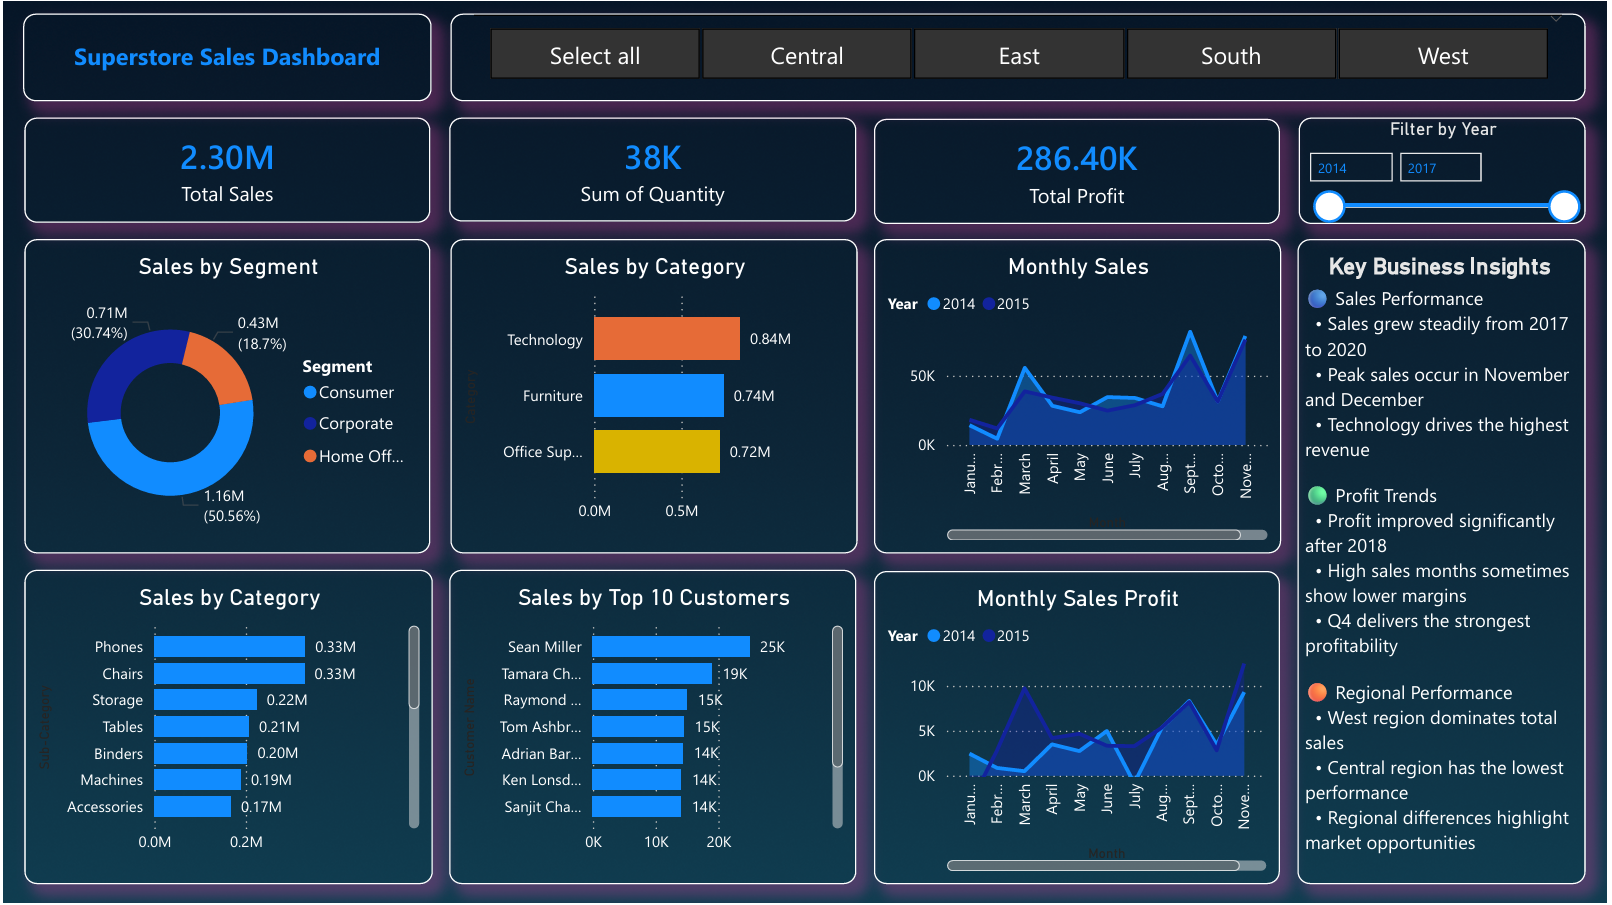

Layout of this report page (visuals, bound fields, positions):
{"tool":"powerbi","page":{"name":"Page 1","canvas":[1280,720],"ordinal":0},"visuals":[{"type":"cardVisual","title":"Total Sales","fields":{"Data":["Sample - Superstore.Total Sales"]},"box":[17.1,92.9,324.3,84.3],"z":0},{"type":"cardVisual","title":"Sum of Profit","fields":{"Data":["Sample - Superstore.Total Profit"]},"box":[694.5,93.6,324,84.5],"z":1000},{"type":"donutChart","title":"Sales by Segment","fields":{"Category":["Sample - Superstore.Segment"],"Y":["Sum(Sample - Superstore.Sales)"]},"box":[17.1,190,324.3,251.4],"z":2000},{"type":"textbox","box":[16,10,326,70],"z":3000},{"type":"cardVisual","title":"Total Quanity","fields":{"Data":["Sum(Sample - Superstore.Quantity)"]},"box":[356.4,92.7,324.5,83.6],"z":4000},{"type":"slicer","title":"Filter by Region","fields":{"Values":["Sample - Superstore.Region"]},"box":[356.7,10,906.7,70],"z":5000},{"type":"clusteredBarChart","title":"Sales by Category","fields":{"Category":["Sample - Superstore.Category"],"Y":["Sum(Sample - Superstore.Sales)"]},"box":[356.7,189.9,325,251],"z":6000},{"type":"areaChart","title":"Monthly Sales","fields":{"Y":["Sum(Sample - Superstore.Sales)"],"Category":["Sample - Superstore.Order Date.Variation.Date Hierarchy.Month"],"Series":["Sample - Superstore.Order Date.Variation.Date Hierarchy.Year"]},"box":[695,189.9,325,251],"z":7000},{"type":"clusteredBarChart","title":"Sales by Category","fields":{"Category":["Sample - Superstore.Sub-Category"],"Y":["Sum(Sample - Superstore.Sales)"]},"box":[17.3,453.6,325.5,251.8],"z":8000},{"type":"clusteredBarChart","title":"Sales by Top 10 Customers","fields":{"Category":["Sample - Superstore.Customer Name"],"Y":["Sum(Sample - Superstore.Sales)"]},"box":[356.2,453.8,325,251.2],"z":9000},{"type":"areaChart","title":"Monthly Sales Profit","fields":{"Category":["Sample - Superstore.Order Date.Variation.Date Hierarchy.Month"],"Series":["Sample - Superstore.Order Date.Variation.Date Hierarchy.Year"],"Y":["Sum(Sample - Superstore.Profit)"]},"box":[694.6,454.6,324.6,250.8],"z":10000},{"type":"slicer","title":"Filter by Year","fields":{"Values":["Sample - Superstore.Order Date.Variation.Date Hierarchy.Year"]},"box":[1034.2,93.3,229.2,84.2],"z":11000},{"type":"textbox","title":"Key Business Insights","box":[1033.3,190,230,515],"z":12000}]}

Visuals, with their boxes in screenshot pixels (x1, y1, x2, y2), scaled from the page's 1280x720 canvas onto the 1612x905 screenshot:
"Total Sales" cardVisual: bbox(22, 117, 430, 223)
"Sum of Profit" cardVisual: bbox(875, 118, 1283, 224)
"Sales by Segment" donutChart: bbox(22, 239, 430, 555)
textbox: bbox(20, 13, 431, 101)
"Total Quanity" cardVisual: bbox(449, 117, 858, 222)
"Filter by Region" slicer: bbox(449, 13, 1591, 101)
"Sales by Category" clusteredBarChart: bbox(449, 239, 859, 554)
"Monthly Sales" areaChart: bbox(875, 239, 1285, 554)
"Sales by Category" clusteredBarChart: bbox(22, 570, 432, 887)
"Sales by Top 10 Customers" clusteredBarChart: bbox(449, 570, 858, 886)
"Monthly Sales Profit" areaChart: bbox(875, 571, 1284, 887)
"Filter by Year" slicer: bbox(1302, 117, 1591, 223)
"Key Business Insights" textbox: bbox(1301, 239, 1591, 886)
